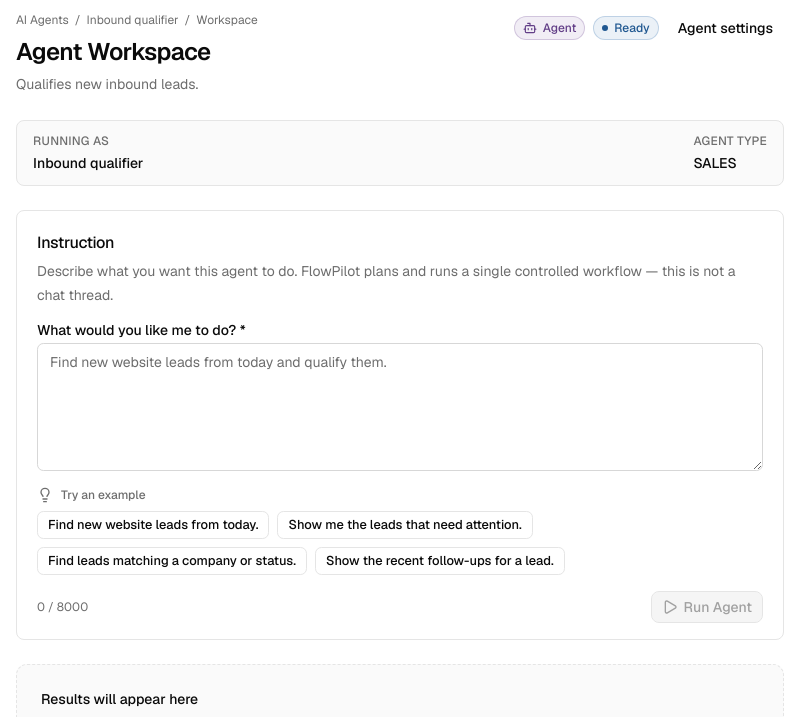
Test: Agent Workspace page › populates examples without executing and clears locally
This screenshot has width=801, height=717.
Check: the button "Run Agent" is shown, box [651,591,763,623]
What coordinates should you click on to do the following:
click the button "Show me the leads that need attention."
I would click on:
 (405, 525)
Its box is [278,511,533,539].
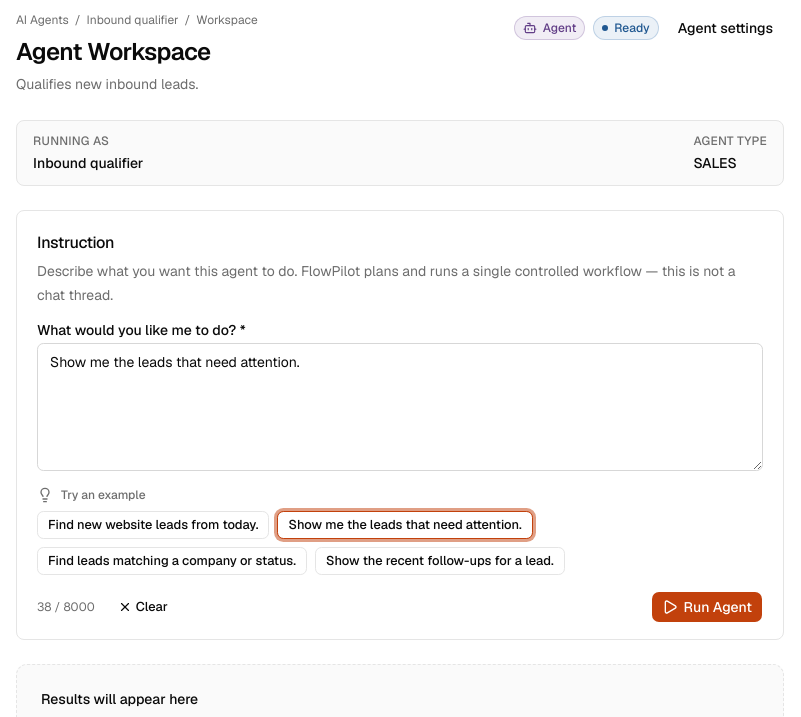
Check: the text box labelled "What would you like me to do? *" holds "Show me the leads that need attention.", box [37,343,763,471]
What coordinates should you click on to do the following:
click the button "Clear"
I would click on:
 (143, 607)
Its box is [107,593,179,621].
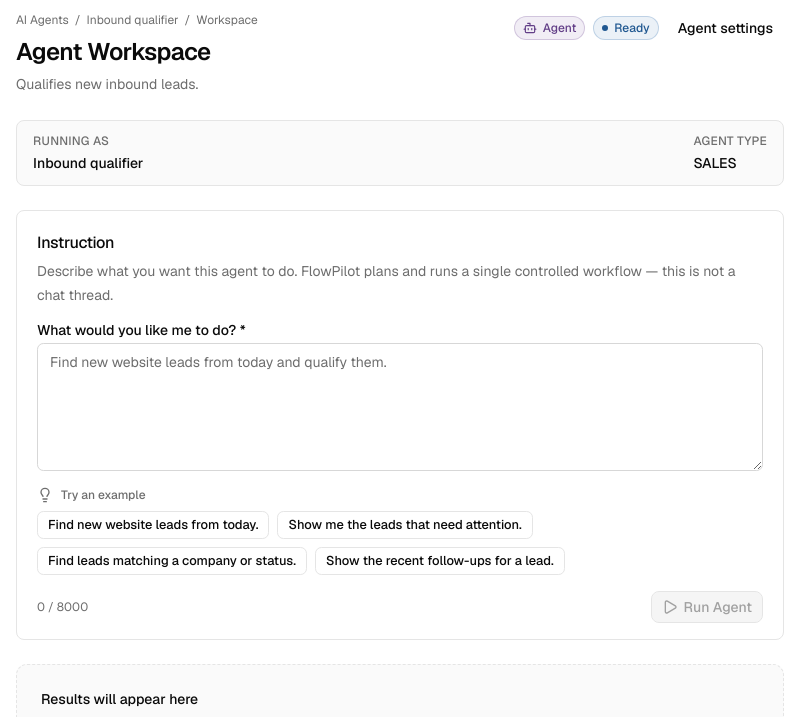
Check: the text box labelled "What would you like me to do? *" is empty, box [37,343,763,471]
Check: the button "Clear" is gone
